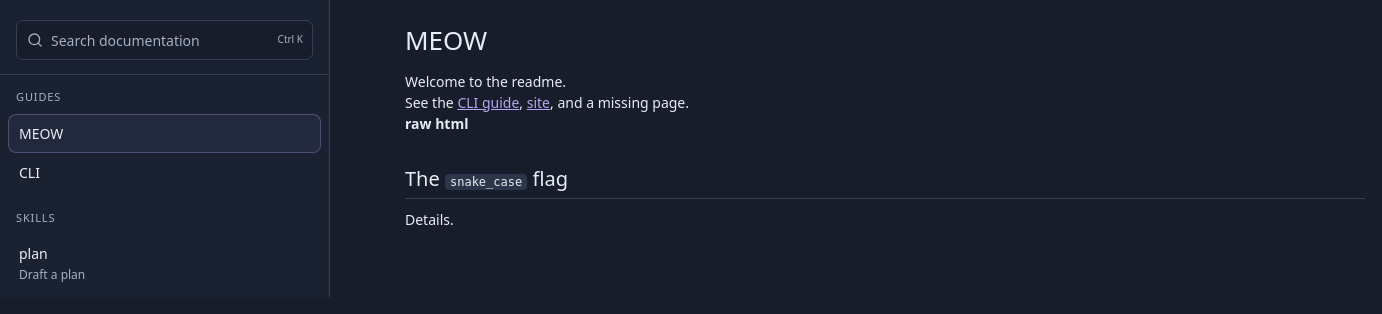
Test: search regions are labelled
The image size is (1382, 314).
Check: the text "Welcome to the readme." is shown, box [405, 72, 566, 91]
Type "manually" into the search field labelled "Search documentation". click: (164, 40)
box: [16, 20, 313, 60]
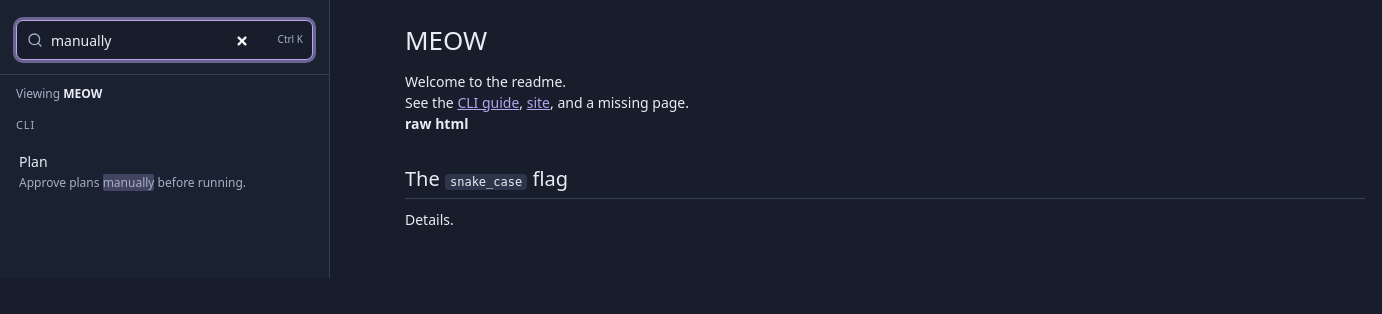
Check: the list named "Search results" is shown, box [0, 75, 329, 204]
Replace the text in the search field named "Search documentation" with "zzz". click: (164, 40)
box: [16, 20, 313, 60]
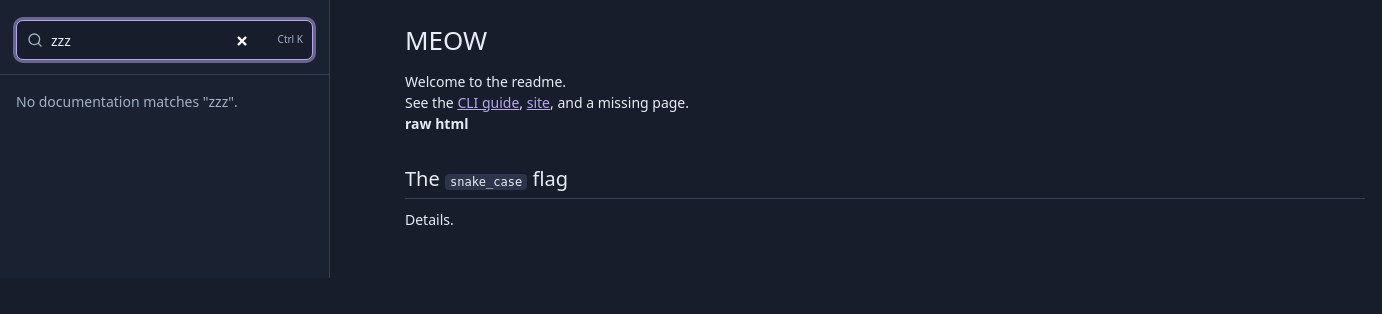
Check: the message shows "zzz", box [208, 92, 228, 111]
